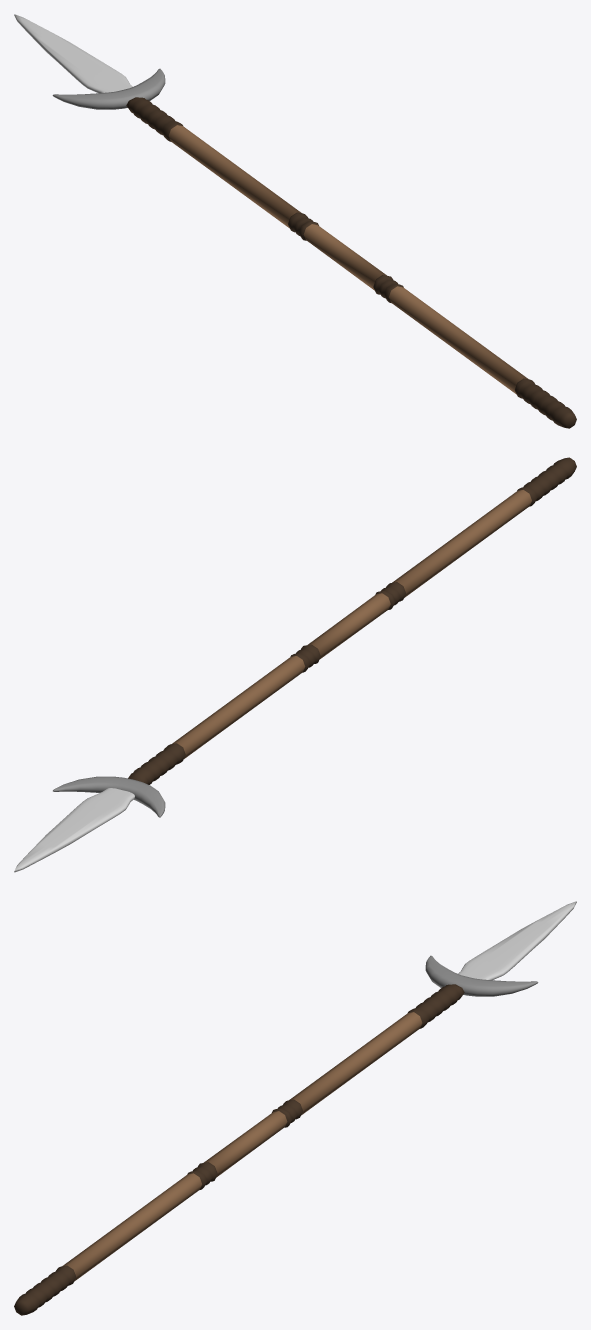
File: Spear_02.fbx
3 views of the same model, one above another, from view 1: azimuth 30°, elevation 25°; view 2: azimuth 150°, elevation 25°; view 3: azimuth 330°, elevation 25° (orthographic).
Parts seen in each view (by area): view 1: Spear_02; view 2: Spear_02; view 3: Spear_02.
Boxes of the visible parts, bbox=[...] form: Spear_02: bbox=[14, 14, 576, 428]; Spear_02: bbox=[14, 457, 576, 872]; Spear_02: bbox=[14, 901, 576, 1315].
Size of the model in its own units: 17.86 by 3.07 by 160.
